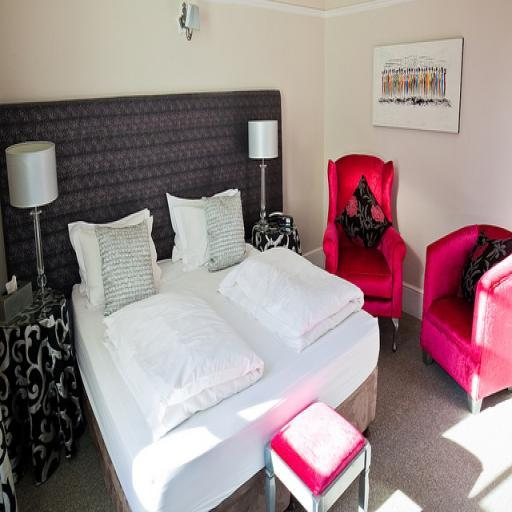bed: (59, 176, 396, 504)
